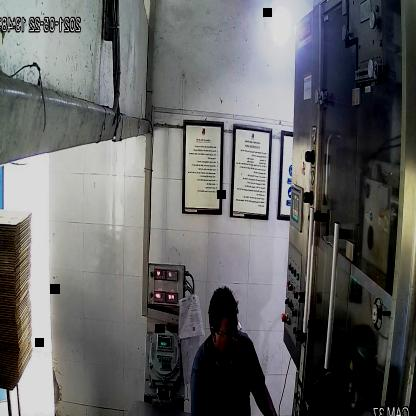goggles: (208, 320, 244, 344)
